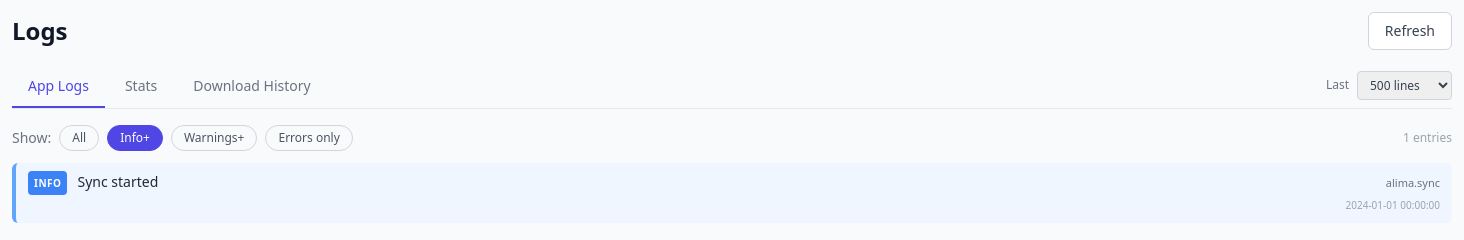
Test case: LogsPage › says the level is empty rather than showing a blank pane
The image size is (1464, 240).
expect the text "Sync started" is shown: met, box [78,172,158,191]
Click the button "Errors only".
click(309, 138)  # box [266,125,353,151]
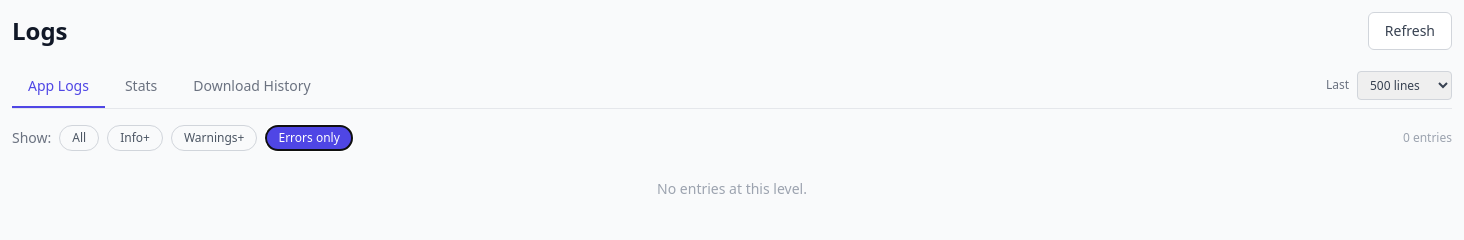
expect the text "No entries at this level." is shown: met, box [657,179,807,198]
